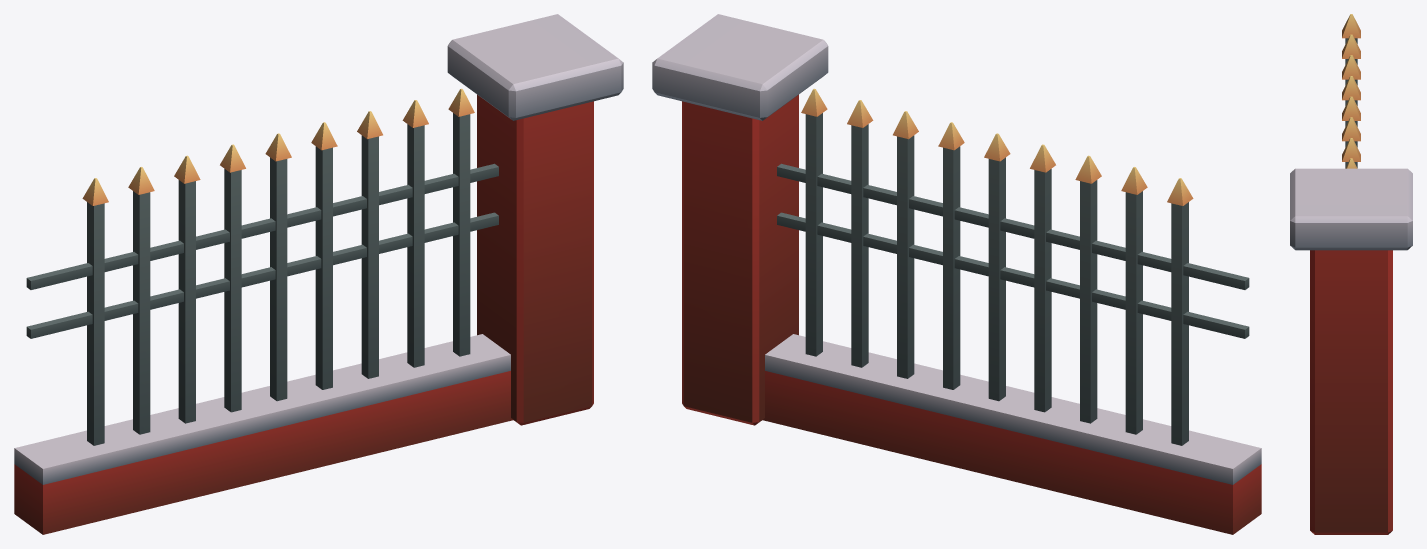
The model's file is lpb_fence_2.fbx.
3 views of the same model, side by side, from view 1: azimuth 30°, elevation 25°; view 2: azimuth 150°, elevation 25°; view 3: azimuth 270°, elevation 25° (orthographic). The views are drawn at different scales.
Parts seen in each view (by area): view 1: fence2; view 2: fence2; view 3: fence2.
Boxes of the visible parts, left/top/right/bottom form: fence2: left=14, top=14, right=623, bottom=534; fence2: left=652, top=14, right=1261, bottom=534; fence2: left=1290, top=14, right=1412, bottom=534.
Size of the model in its own units: 557 by 333 by 113.
